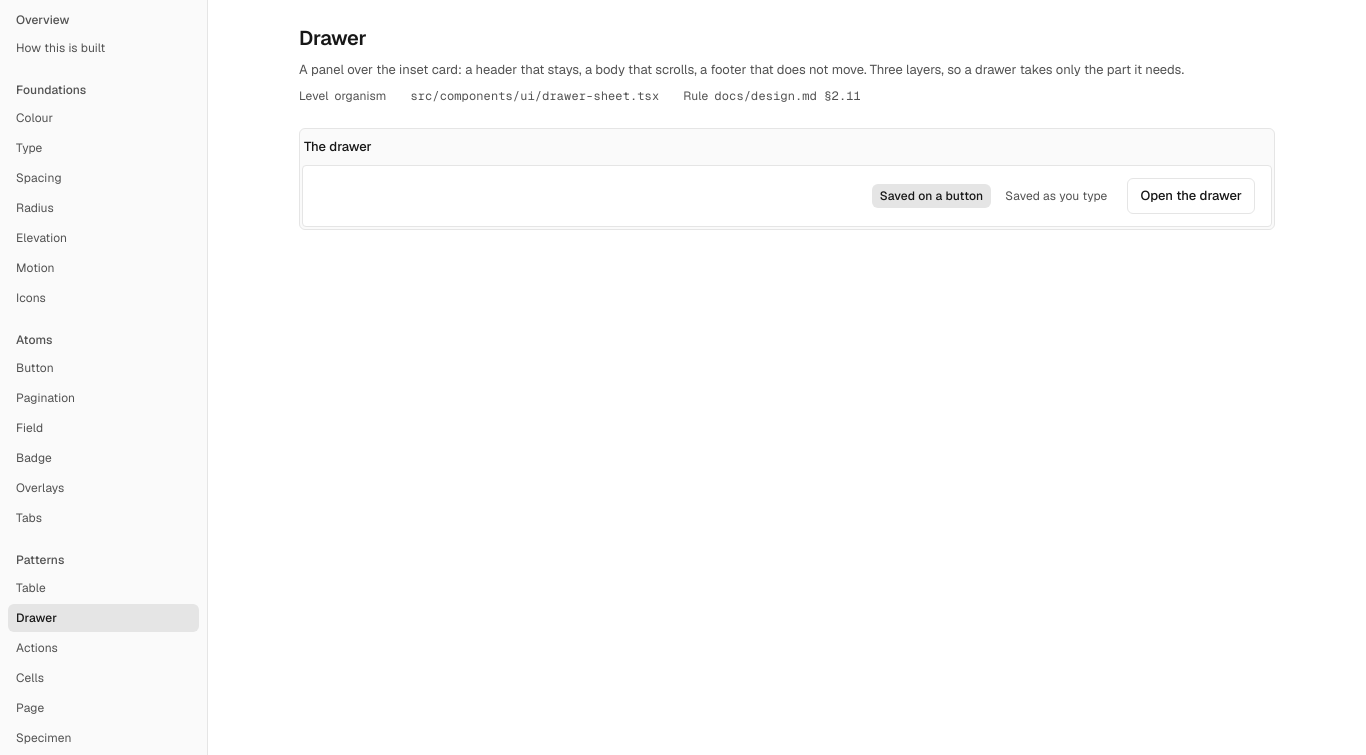
the drawer specimen › opens the real drawer, with the whole toolbar on it
What coordinates should you click on to do the following:
click the button "Open the drawer"
I would click on:
 (1191, 196)
Its box is [1127,178,1255,214].
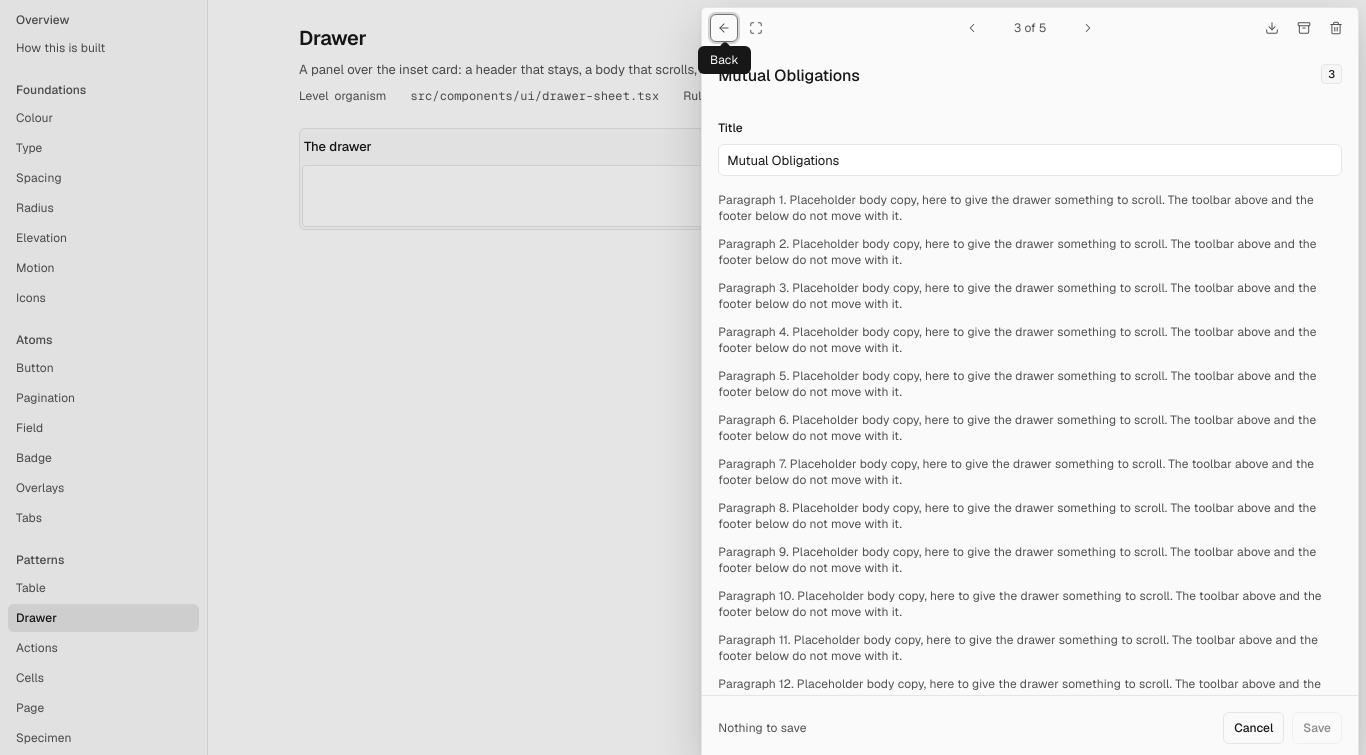
Now the button named "Back" is shown, box [710,14,738,42]
Now the button named "Expand" is shown, box [742,14,770,42]
Now the text "3 of 5" is shown, box [1014,20,1046,36]
